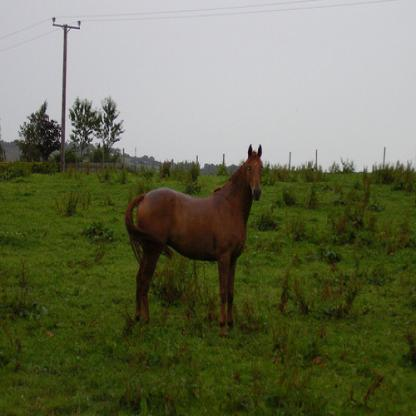horse: (122, 144, 263, 334)
